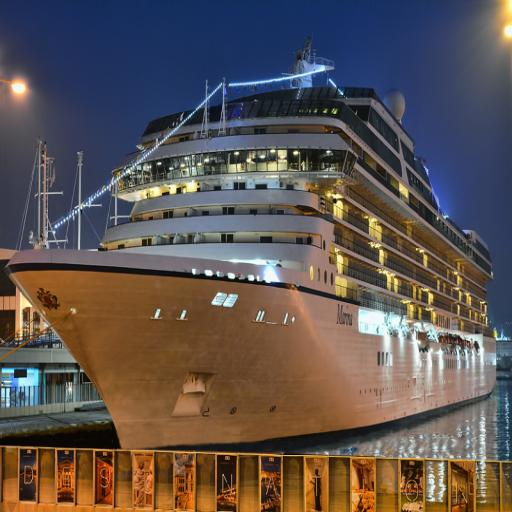cruises: (3, 33, 502, 453)
